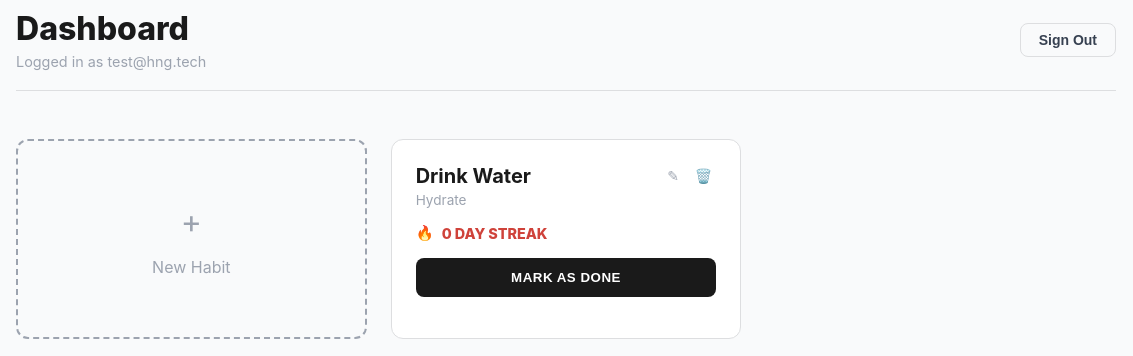
Test: dashboard actions › deletes a habit only after explicit confirmation
This screenshot has width=1133, height=356.
Wait for loading to finish and card to appear
Click the button with test id "habit-delete-drink-water".
click(704, 176)  # box [691,164,716,188]
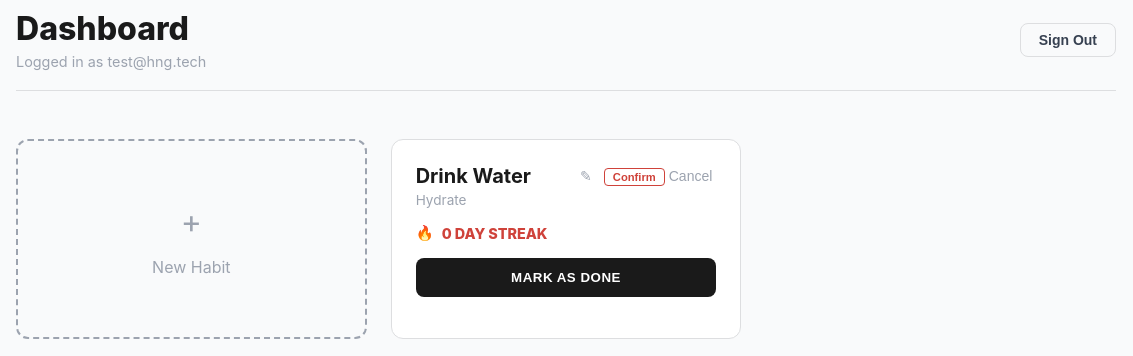
Now the button with test id "confirm-delete-button" is shown
Click the button with test id "confirm-delete-button".
click(634, 177)  # box [604,168,665,186]
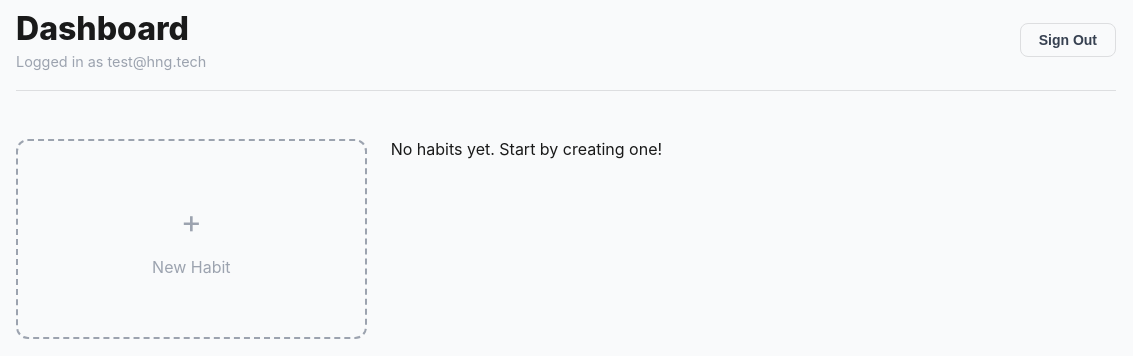
Now the element with test id "habit-card-drink-water" is gone
Now the element with test id "empty-state" is shown, box [391,139,662,159]
